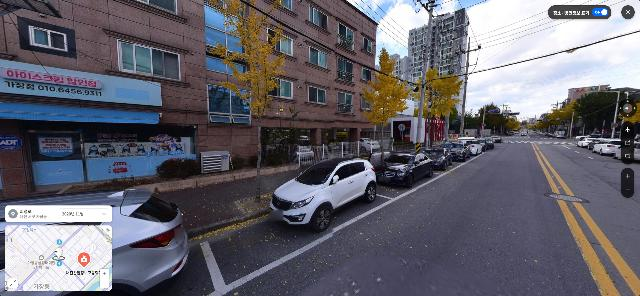ginkgo: (207, 0, 292, 202), (360, 46, 413, 165), (414, 64, 464, 150), (553, 110, 580, 137), (499, 115, 521, 136)
other: (575, 89, 632, 135), (268, 116, 307, 164), (472, 103, 509, 136), (556, 106, 586, 137)
